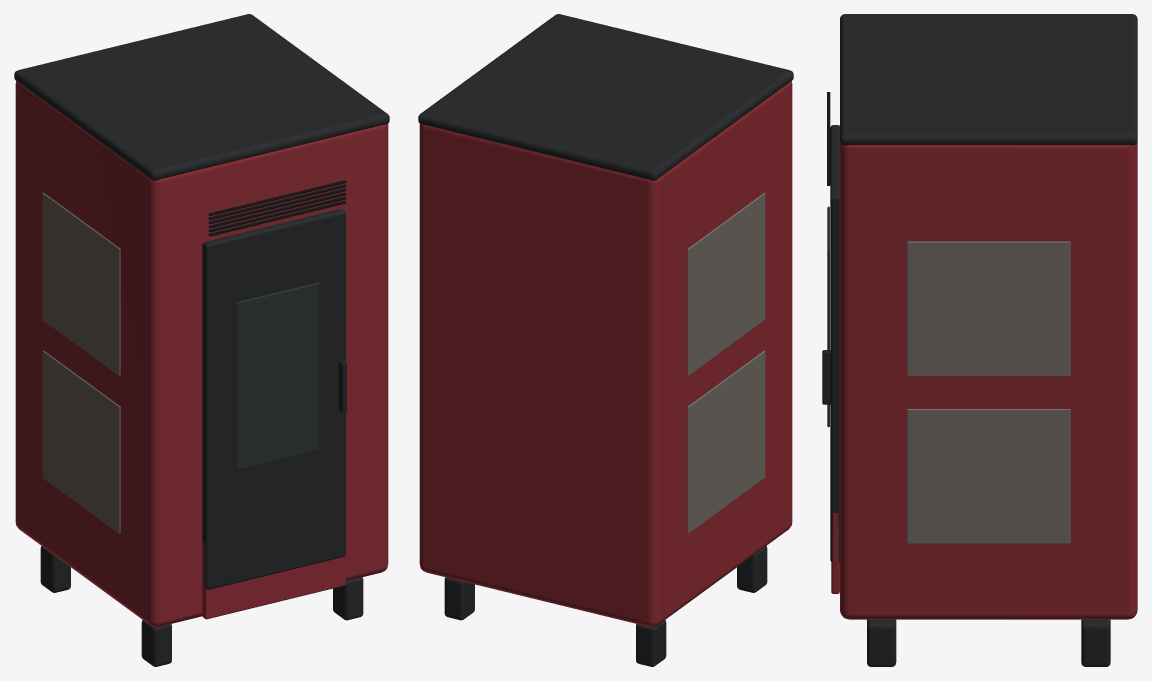
File: ravelli-rv-110-bordeaux.glb
3 views of the same model, side by side, from view 1: azimuth 30°, elevation 25°; view 2: azimuth 150°, elevation 25°; view 3: azimuth 270°, elevation 25° (orthographic). The views are drawn at different scales.
Visible parts, largest first — view 1: Corpo.003, Porta.003, Coperchio.003, Vetro sportello.003, Riquadro laterale.004, Riquadro laterale.005, Pannello inferiore.003, Piede.004, Piede.006, Piede.005; view 2: Corpo.003, Coperchio.003, Riquadro laterale.004, Riquadro laterale.005, Piede.005, Piede.007, Piede.004; view 3: Corpo.003, Coperchio.003, Riquadro laterale.007, Riquadro laterale.006, Porta.003, Piede.007, Piede.006, Pannello inferiore.003, Vetro sportello.003, Maniglia.003.
Boxes of the visible parts, left/top/right/bottom form: Corpo.003: left=15, top=81, right=388, bottom=627; Porta.003: left=202, top=209, right=345, bottom=589; Coperchio.003: left=14, top=14, right=389, bottom=180; Vetro sportello.003: left=235, top=282, right=319, bottom=470; Riquadro laterale.004: left=42, top=350, right=120, bottom=533; Riquadro laterale.005: left=42, top=192, right=120, bottom=375; Pannello inferiore.003: left=202, top=541, right=345, bottom=619; Piede.004: left=141, top=620, right=171, bottom=666; Piede.006: left=333, top=577, right=363, bottom=620; Piede.005: left=40, top=546, right=70, bottom=592; Corpo.003: left=419, top=81, right=792, bottom=627; Coperchio.003: left=418, top=14, right=793, bottom=180; Riquadro laterale.004: left=687, top=350, right=765, bottom=533; Riquadro laterale.005: left=687, top=192, right=765, bottom=375; Piede.005: left=636, top=620, right=666, bottom=666; Piede.007: left=444, top=577, right=474, bottom=620; Piede.004: left=737, top=546, right=767, bottom=592; Corpo.003: left=840, top=141, right=1137, bottom=619; Coperchio.003: left=840, top=14, right=1137, bottom=145; Riquadro laterale.007: left=907, top=241, right=1070, bottom=376; Riquadro laterale.006: left=907, top=409, right=1070, bottom=543; Porta.003: left=830, top=125, right=839, bottom=561; Piede.007: left=1081, top=619, right=1110, bottom=666; Piede.006: left=867, top=619, right=896, bottom=666; Pannello inferiore.003: left=831, top=513, right=839, bottom=593; Vetro sportello.003: left=827, top=206, right=829, bottom=427; Maniglia.003: left=822, top=350, right=830, bottom=404.
Size of the model in its own units: 0.558 by 1.12 by 0.593.
